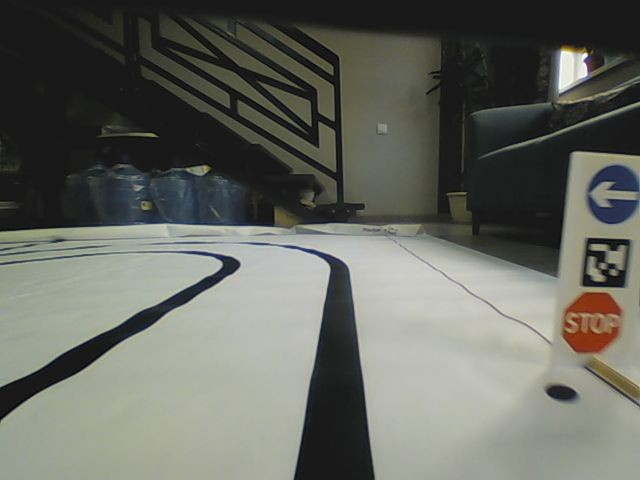Stop: (559, 291, 623, 355)
